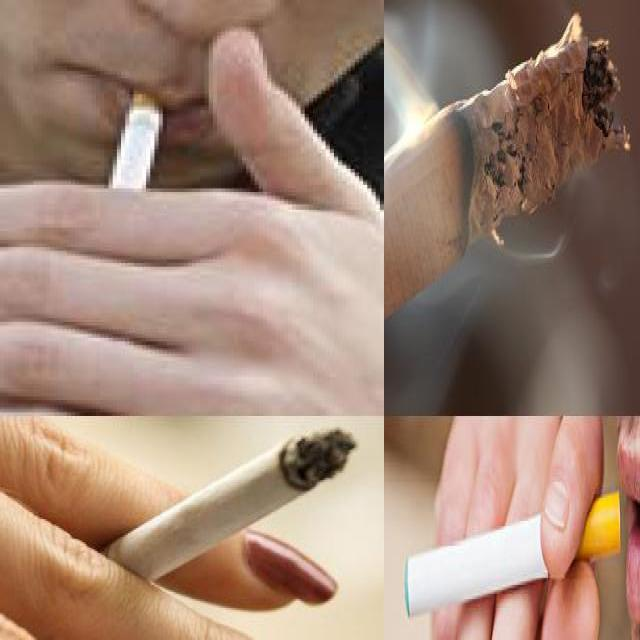cigarette: (384, 16, 634, 414), (91, 425, 361, 578), (402, 485, 620, 617), (106, 64, 172, 220)
